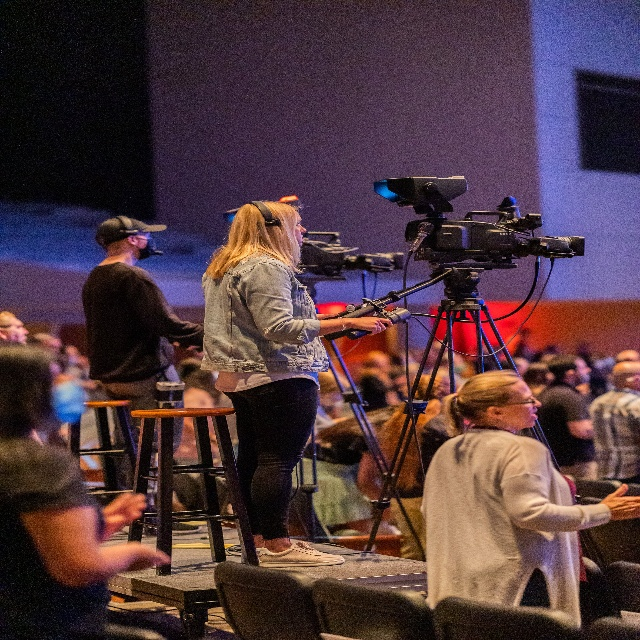Mascara: (134, 235, 156, 260)
Sin_guantes: (123, 532, 172, 581), (101, 490, 148, 534), (599, 480, 640, 523), (354, 315, 393, 337)
